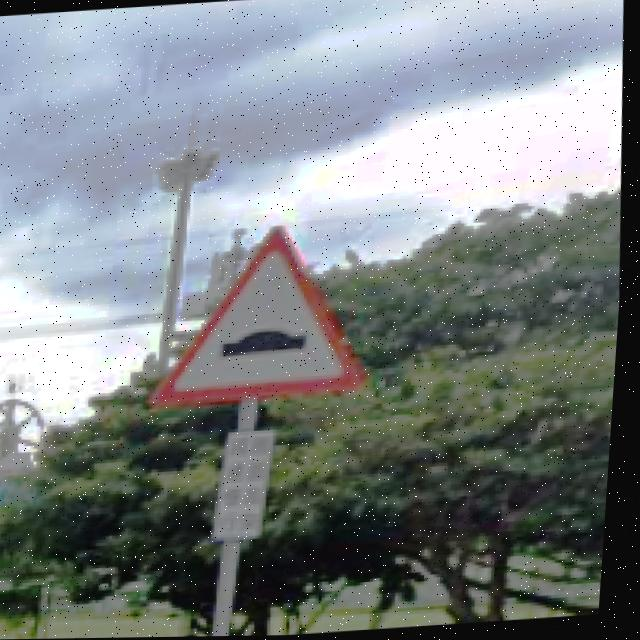hump: (159, 230, 371, 405)
